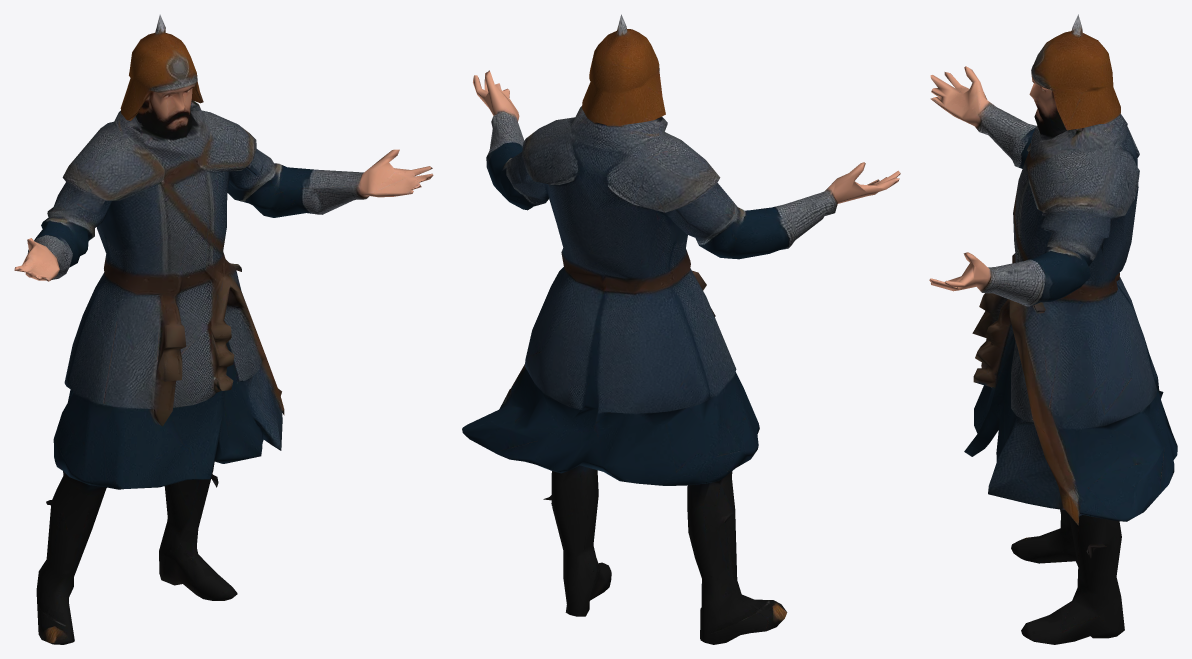
The model's file is unit_NG_KY.glb.
The picture shows the model from 3 angles, left to right: view 1: azimuth 30°, elevation 25°; view 2: azimuth 150°, elevation 25°; view 3: azimuth 270°, elevation 25°; orthographic projection. The views are drawn at different scales.
Bounding box in the file's own units: 1.42 × 1.9 × 0.7046.
1 material, 1 textured.
